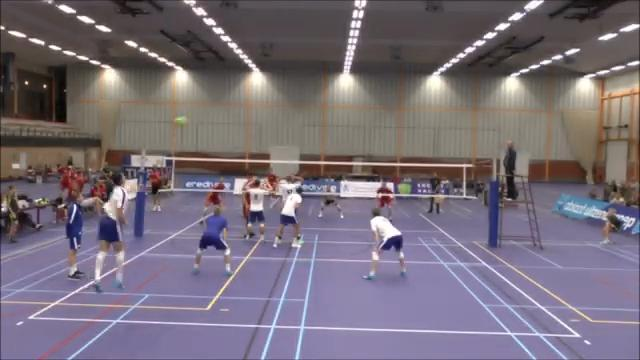Player: (364, 208, 406, 279), (193, 207, 231, 275), (273, 187, 301, 247), (245, 180, 270, 240), (271, 175, 303, 206), (202, 177, 225, 217), (318, 185, 343, 217), (376, 181, 393, 219), (280, 175, 303, 201), (242, 176, 254, 222), (265, 168, 279, 207)
Serve: (89, 169, 127, 294)
ball: (175, 116, 187, 126)
